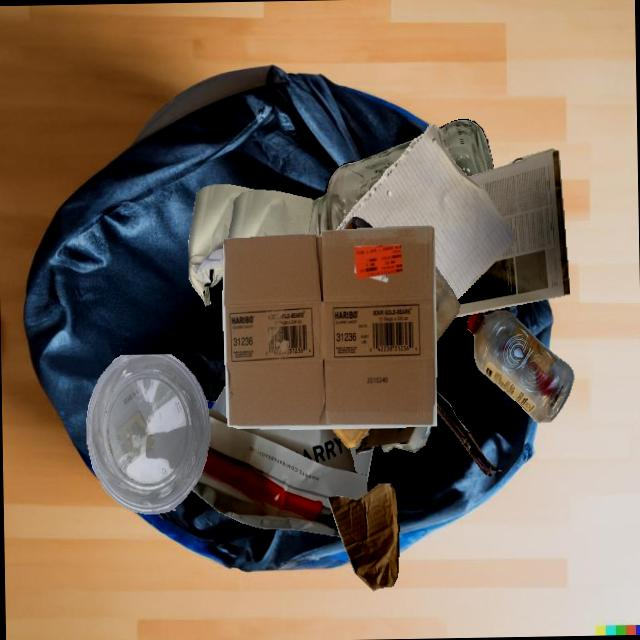cardboard: (222, 225, 437, 429), (327, 483, 399, 590), (436, 391, 501, 476), (355, 426, 416, 453)
glass: (309, 138, 414, 235), (438, 119, 493, 176), (381, 426, 430, 452), (342, 216, 373, 229)
paper: (336, 124, 515, 299), (191, 408, 367, 536), (454, 148, 569, 317), (188, 184, 256, 305), (227, 189, 313, 238)
plastic: (86, 354, 210, 513), (467, 310, 574, 423), (435, 266, 459, 341), (348, 430, 372, 481), (331, 427, 370, 448), (206, 385, 226, 418)
